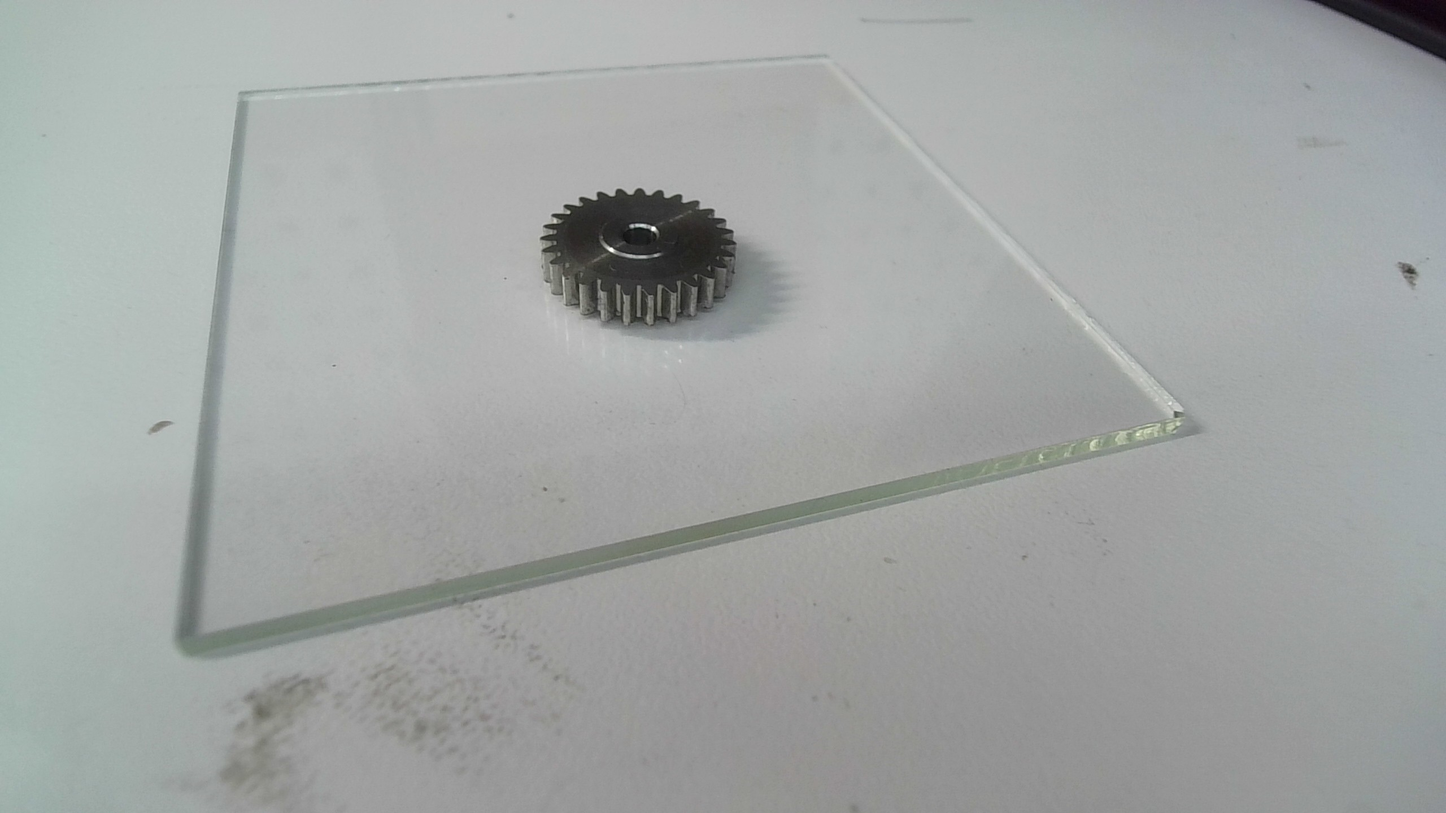gear: (537, 184, 738, 332)
